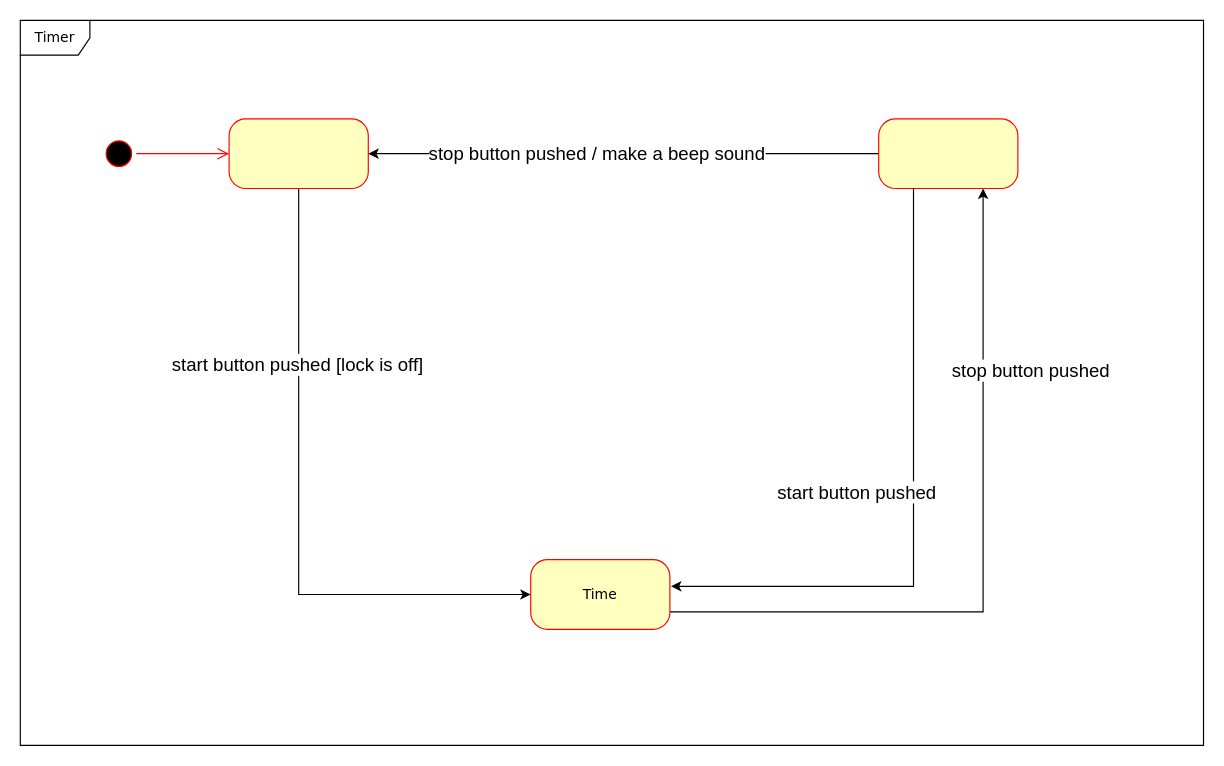
Some shapes in this 1224 by 766 pixel diagram are drawn without their labels. The box of each missing label's shape, as (x1, y1, x2, y2) in pixels:
Pause: (878, 118, 1018, 188)
Stop: (228, 118, 368, 188)
